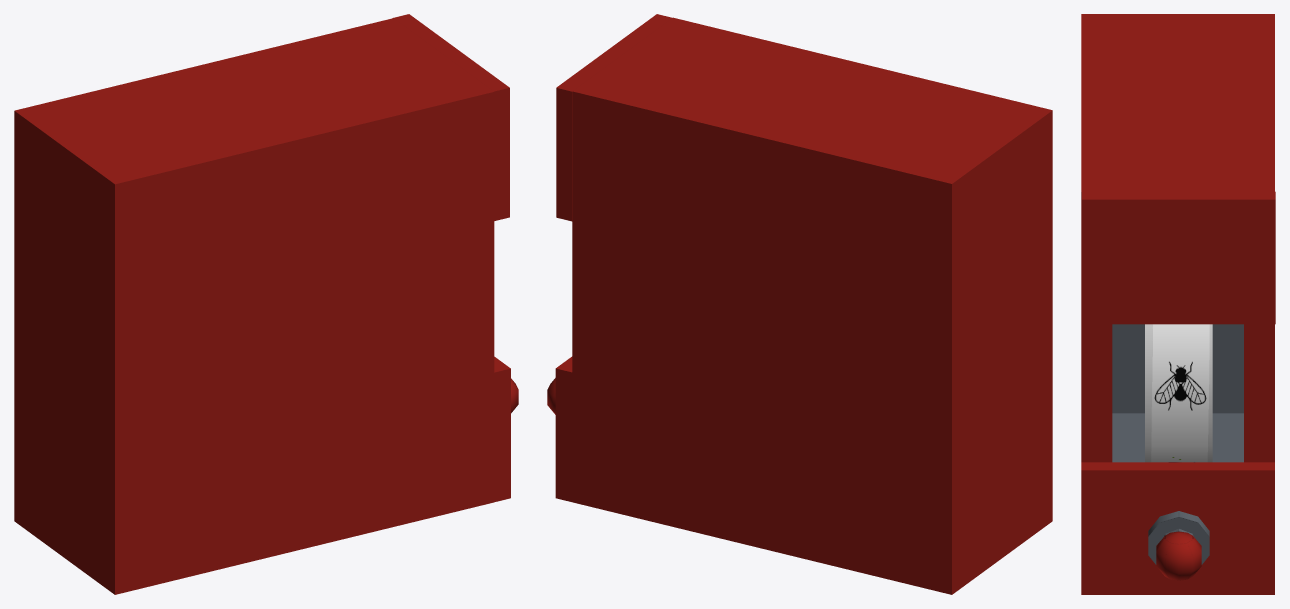
Rendered from Gluecksrad_1.fbx.
The picture shows the model from 3 angles, left to right: view 1: azimuth 30°, elevation 25°; view 2: azimuth 150°, elevation 25°; view 3: azimuth 270°, elevation 25°; orthographic projection. The views are drawn at different scales.
Parts seen in each view (by area): view 1: Wuerfel0; view 2: Wuerfel0; view 3: Wuerfel0, Zylinder_2, Kugel_1, Zylinder.
Part boxes in pixels (x1,y1,x2,y2): Wuerfel0: (14,14,510,594); Wuerfel0: (555,14,1052,594); Wuerfel0: (1081,14,1275,594); Zylinder_2: (1145,324,1212,462); Kugel_1: (1156,531,1201,580); Zylinder: (1148,511,1209,564).
Size of the model in its own units: 539 by 468 by 209.
Materials: 5 (5 with a texture image).
